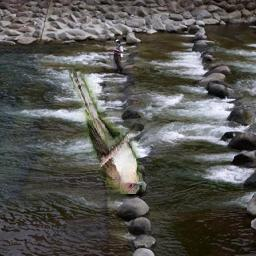Cuckoo: (69, 70, 143, 195)
